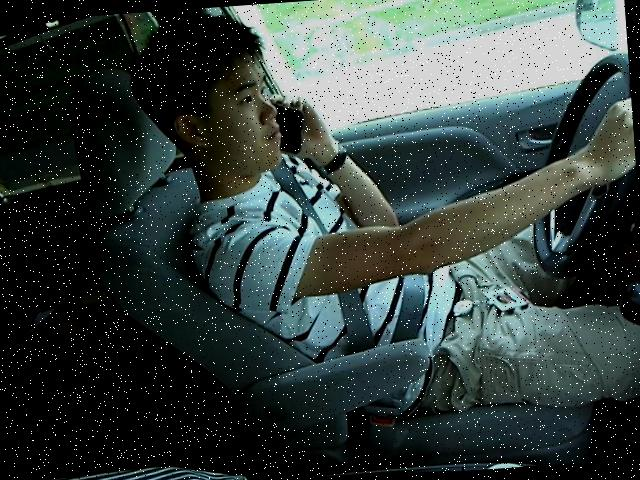c2 - Talking on the phone: (119, 0, 639, 325)
